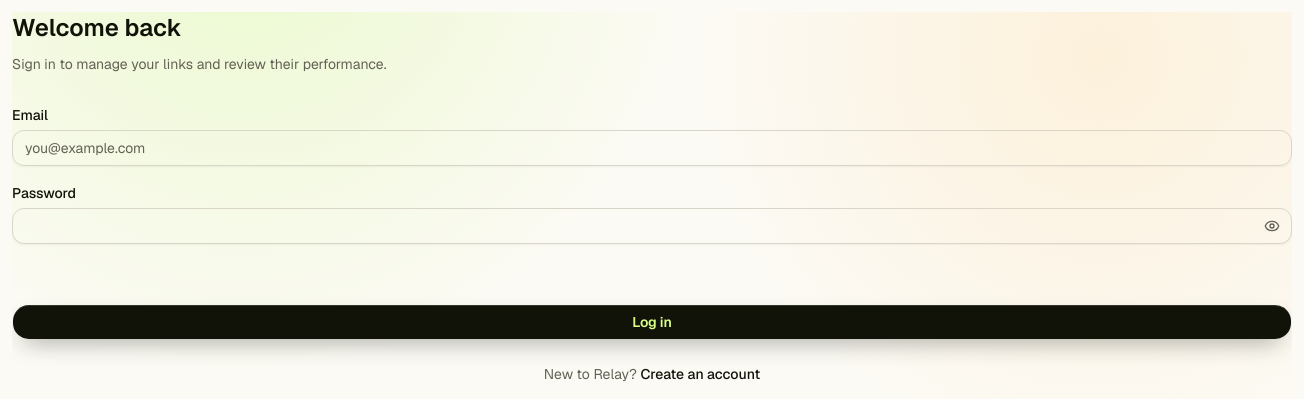
AuthForm › shows a sanitized API error
Type "user@example.com" into the field labelled "Email" at [652, 148], box x1=12 y1=130 x2=1292 y2=166
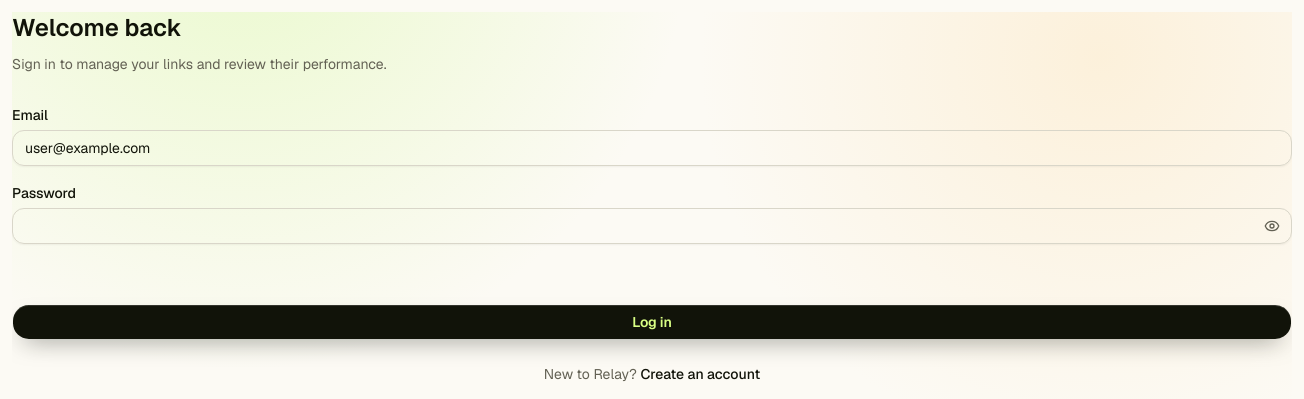
Type "correct horse battery staple" into the password field labelled "Password" at [652, 226], box x1=12 y1=208 x2=1292 y2=244
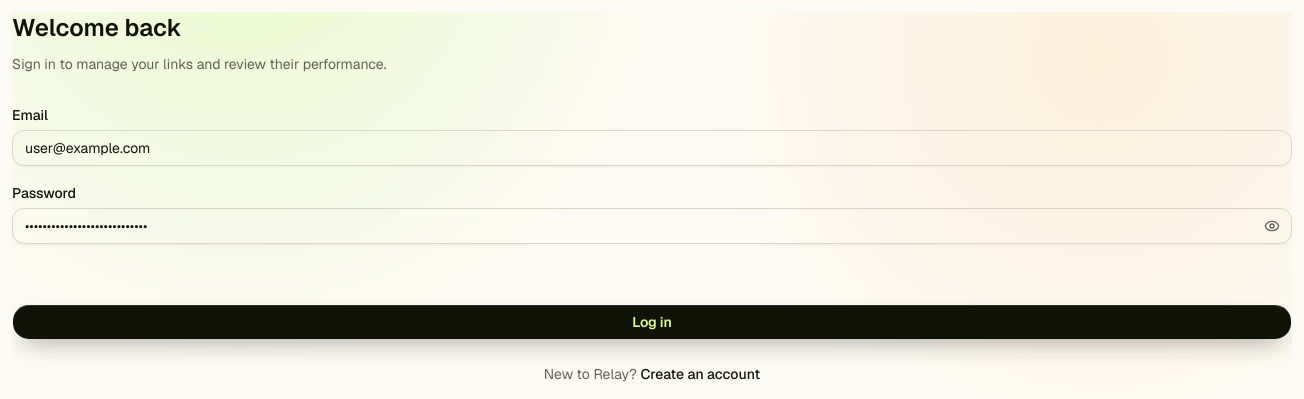
Submit the form "Log in", box x1=12 y1=108 x2=1292 y2=340
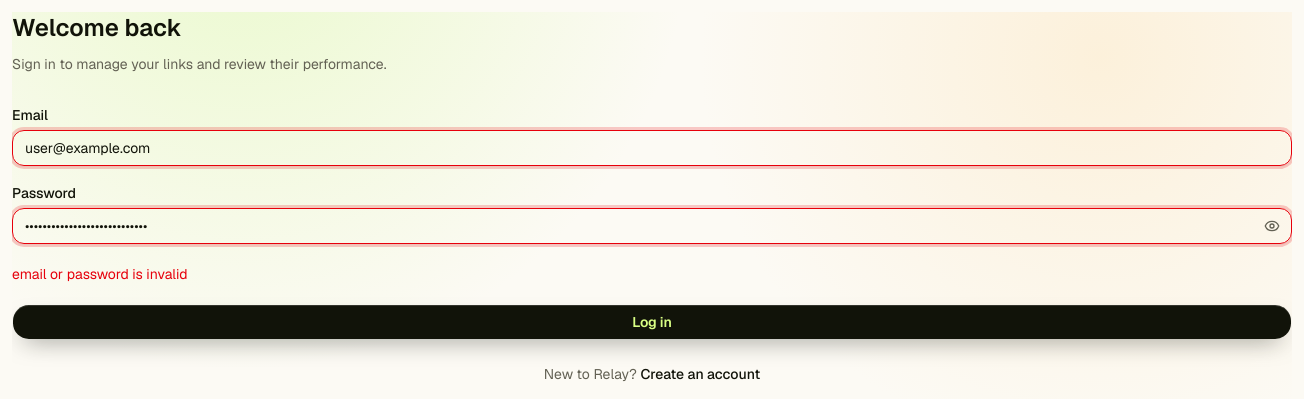
Result: the message reads "email or password is invalid" at x1=12 y1=265 x2=188 y2=283
